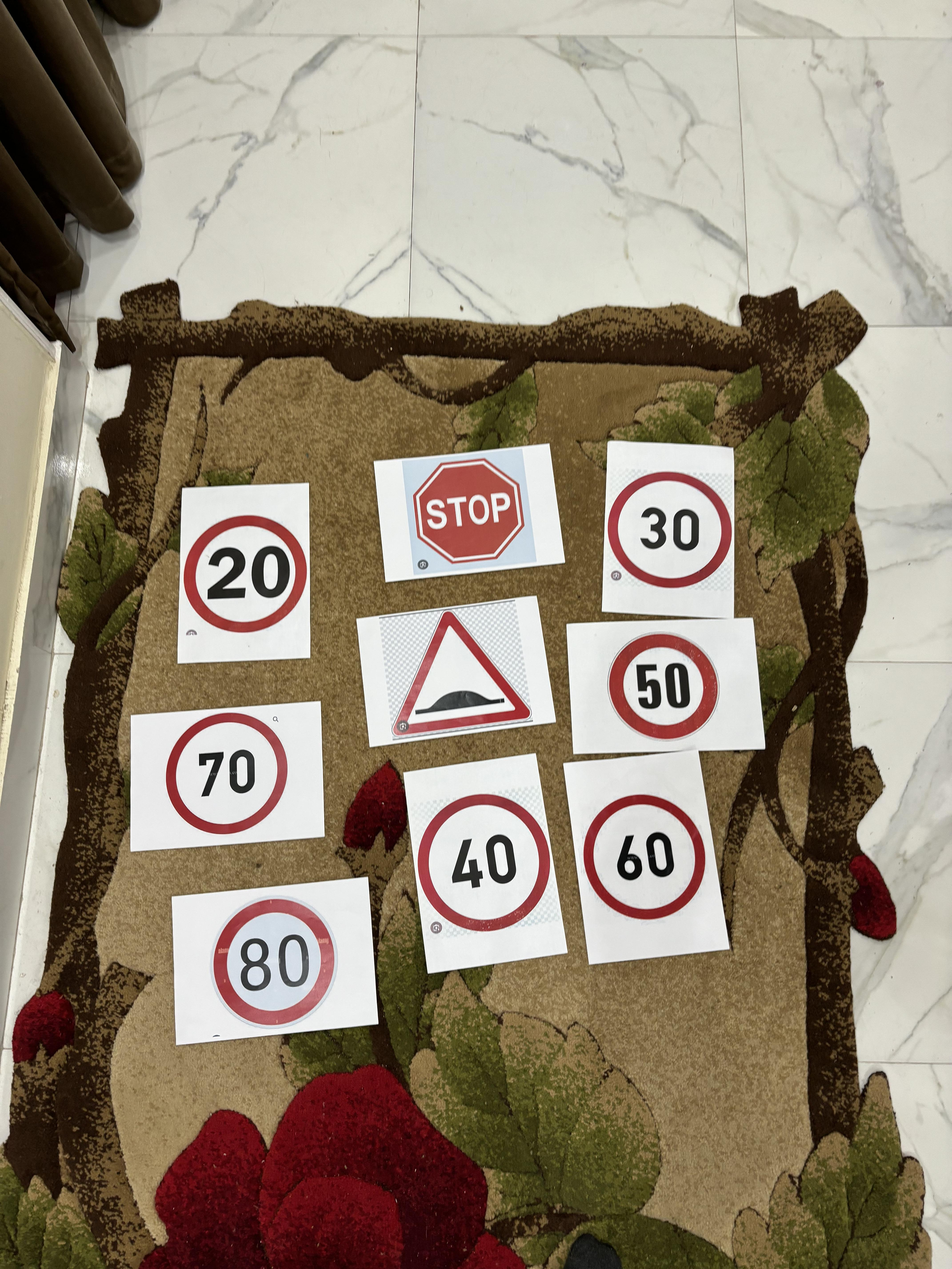20-Speed: (180, 509, 315, 650)
30-speed: (603, 465, 737, 588)
40-Speed: (420, 789, 546, 931)
50-Speed: (607, 634, 728, 735)
60-Speed: (578, 787, 710, 925)
70-Speed: (163, 705, 292, 833)
80-Speed: (207, 891, 335, 1032)
Hump: (385, 605, 534, 739)
Stop: (392, 454, 534, 572)
